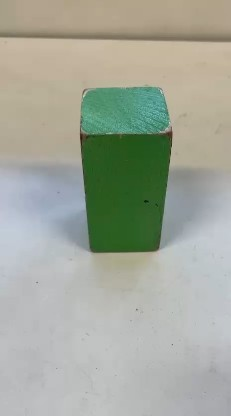green: (74, 84, 169, 251)
